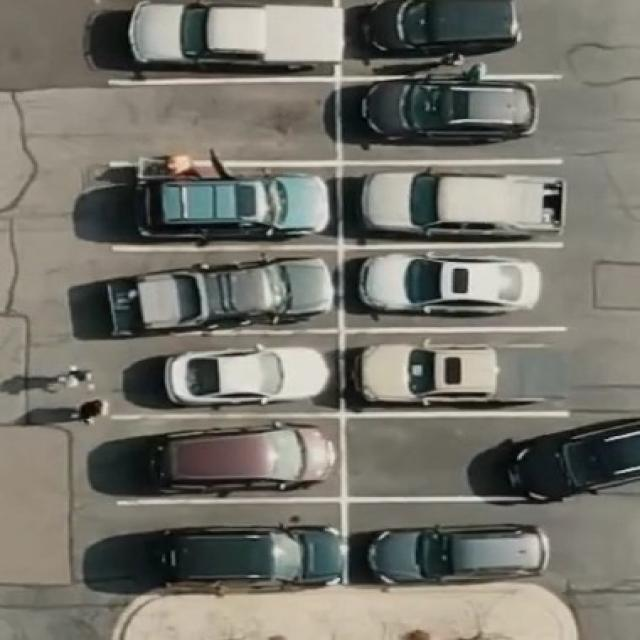space-empty: (101, 74, 335, 167)
space-occupied: (341, 410, 638, 502), (94, 496, 346, 590), (89, 241, 340, 334), (96, 412, 342, 503), (340, 323, 581, 413), (108, 327, 342, 415), (339, 158, 569, 246), (337, 71, 557, 161), (111, 160, 339, 246), (339, 242, 564, 329), (101, 1, 342, 80), (346, 498, 552, 586), (337, 0, 537, 72)
